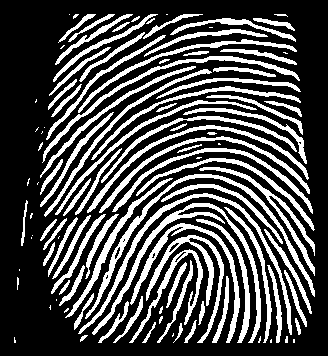bifraction: (204, 208, 222, 218), (200, 244, 206, 253)
